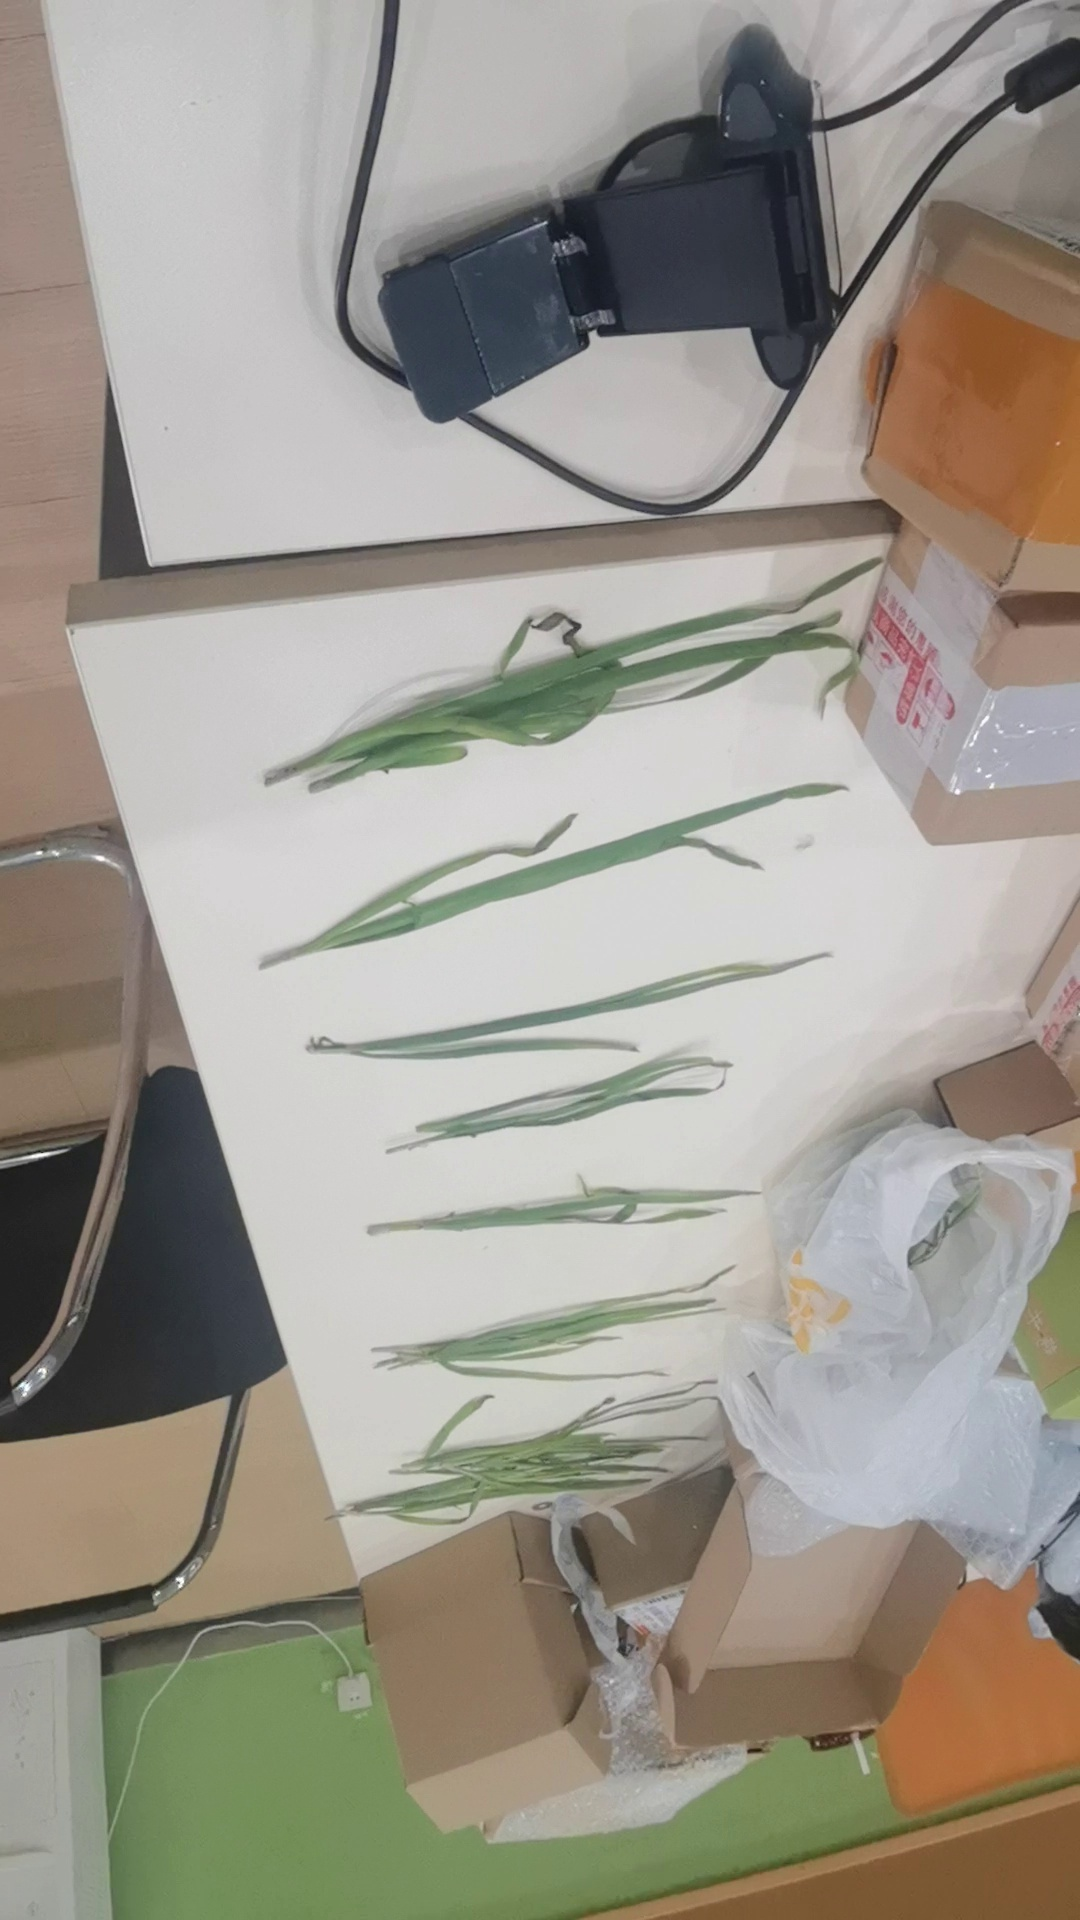chives: (247, 576, 932, 796), (218, 789, 971, 963), (257, 951, 1044, 1069), (309, 1054, 872, 1176), (353, 1415, 816, 1511), (328, 1280, 796, 1371), (328, 1178, 855, 1253)
